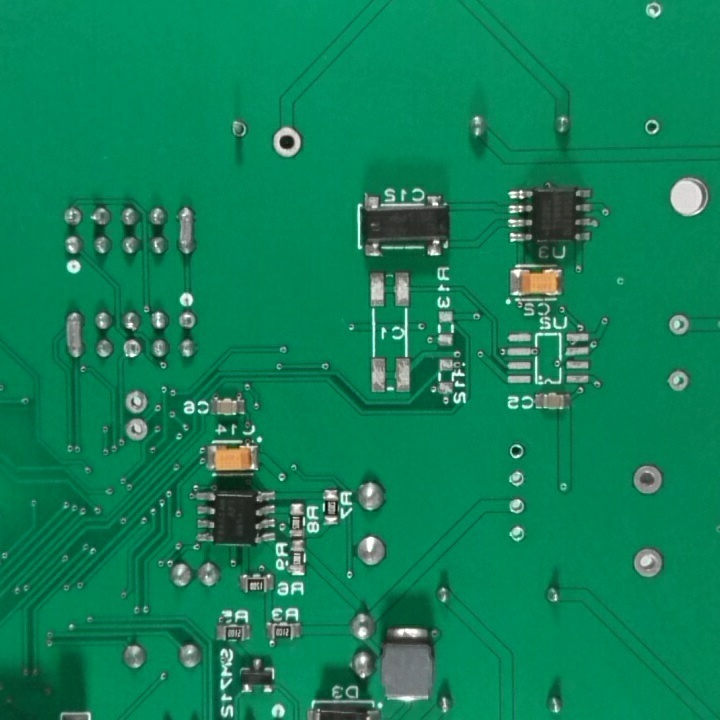F: (629, 544, 667, 583), (630, 461, 666, 500), (268, 122, 306, 158), (120, 385, 152, 415), (664, 308, 693, 340), (664, 367, 693, 398), (120, 415, 150, 443), (227, 115, 250, 143), (61, 203, 84, 229), (504, 440, 527, 466), (506, 494, 528, 521), (176, 310, 200, 334), (506, 520, 528, 546), (121, 337, 144, 361), (506, 466, 526, 493), (640, 116, 663, 138), (640, 1, 665, 21)
P: (172, 202, 199, 260), (61, 306, 88, 363)
